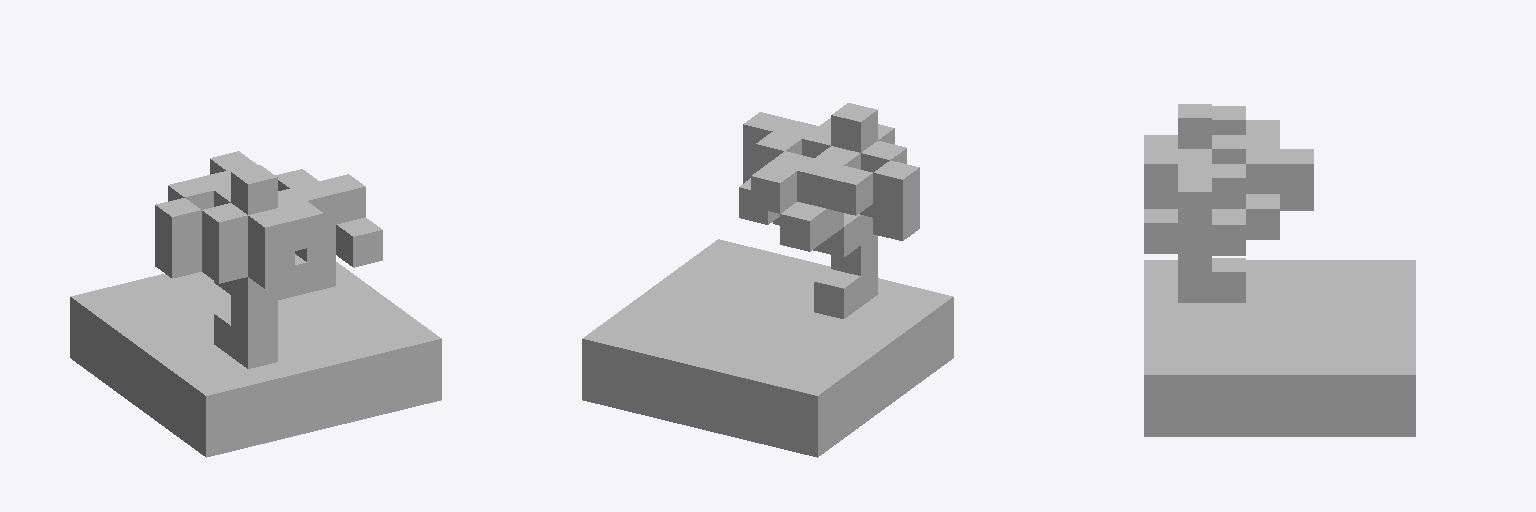
Rendered from trea.obj.
3 renders of one model, left to right at view 1: azimuth 30°, elevation 25°; view 2: azimuth 150°, elevation 25°; view 3: azimuth 270°, elevation 25°, orthographic.
Parts seen in each view (by area): view 1: object 1; view 2: object 1; view 3: object 1.
Part boxes in pixels (bbox=[...]): object 1: bbox=[70, 151, 441, 457]; object 1: bbox=[582, 103, 953, 457]; object 1: bbox=[1144, 104, 1415, 436].
Bounding box in the file's own units: 0.8 × 0.8 × 0.8.